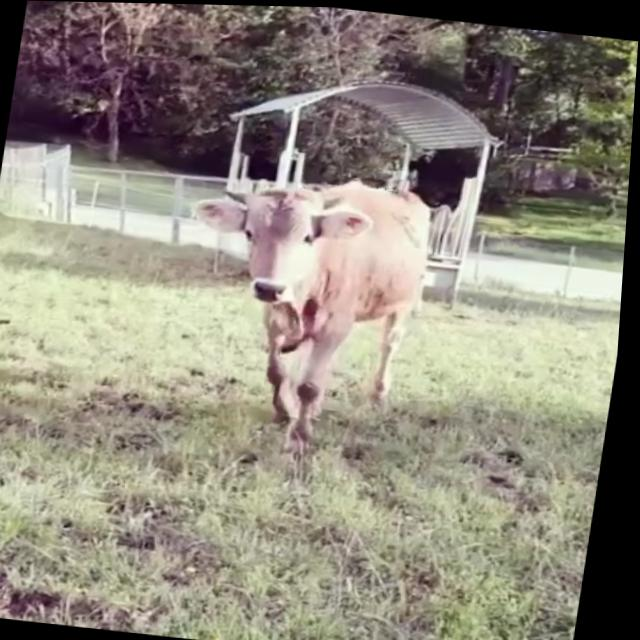cowFace: (177, 169, 381, 317)
